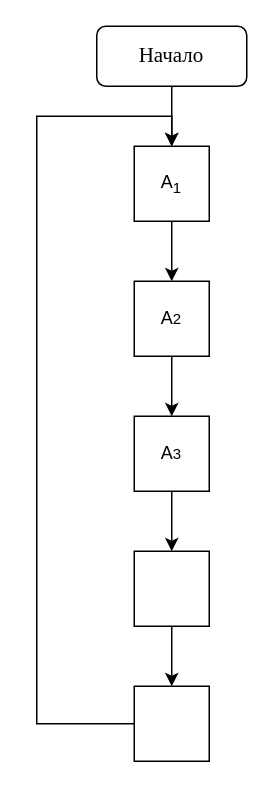
Some shapes in this 273 by 788 pixel diagram are drawn without their labels. The shapes that lost their labels are listed below. From the top down, each one's centre as x and y in pixels, then its label:
At [171,588]: "А 4".
At [171,723]: "А 5".
